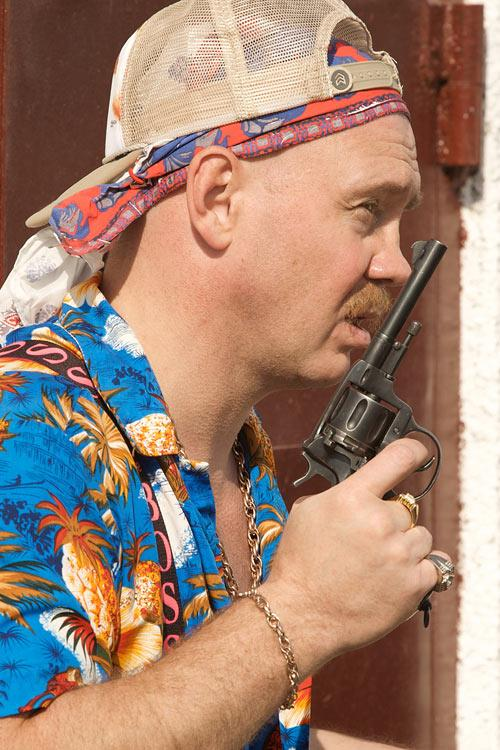Gun: (292, 234, 454, 502)
